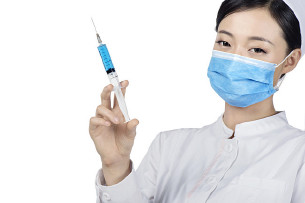face_mask: (206, 10, 285, 107)
